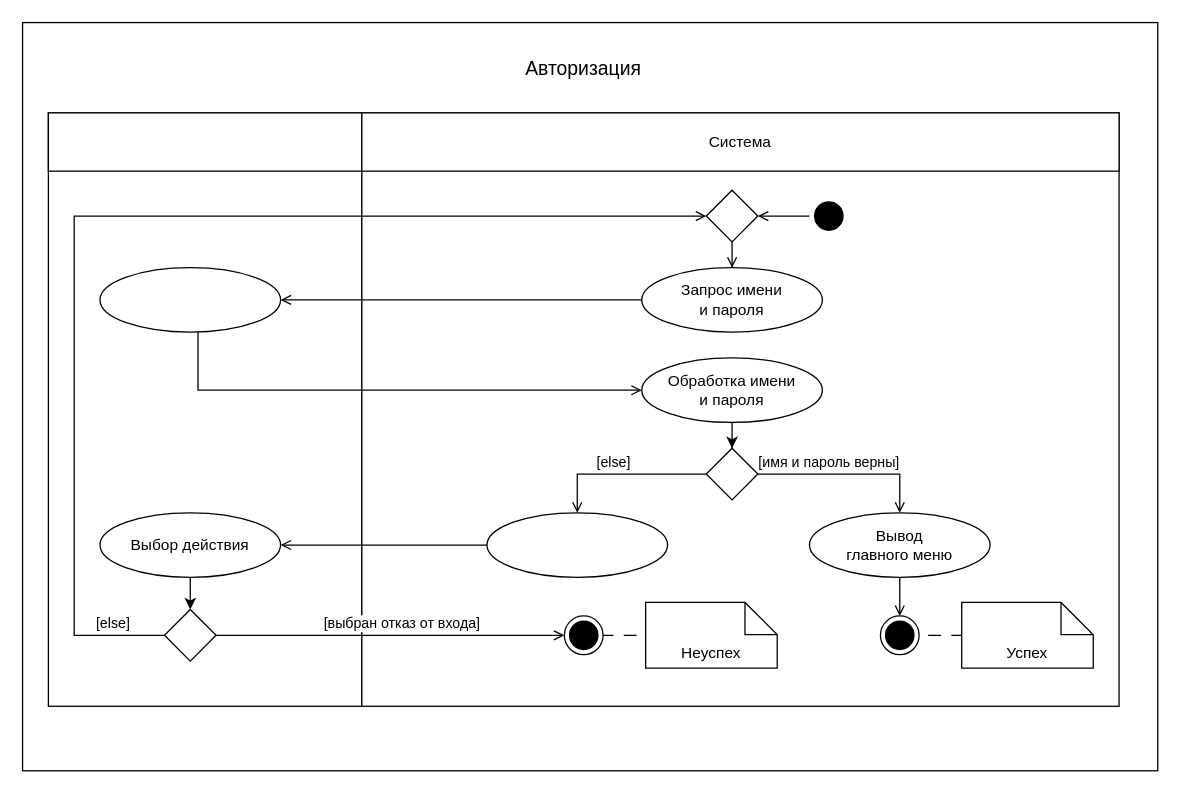
This 1180x793 diagram has some shape labels left out. Each missing label, with the centre of its shape:
"Ввод имени и пароля" goes at point 190,299.
"Вывод предупреждения" goes at point 577,544.
"Пользователь" goes at point 204,141.
